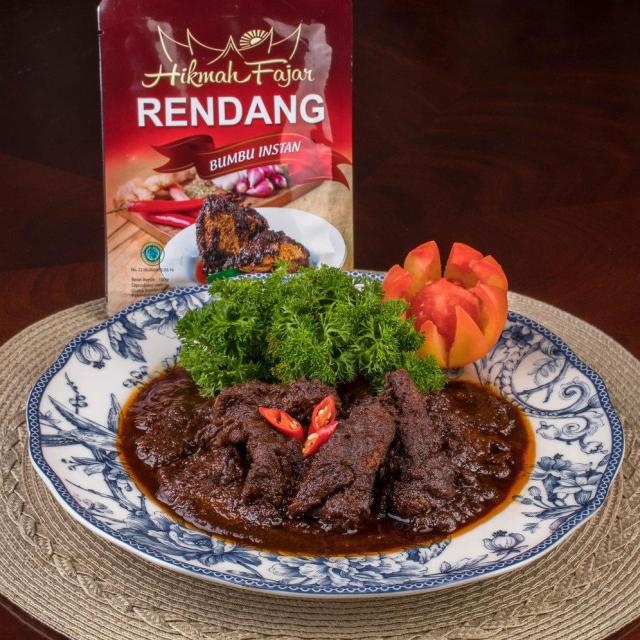Rendang: (124, 355, 545, 560)
